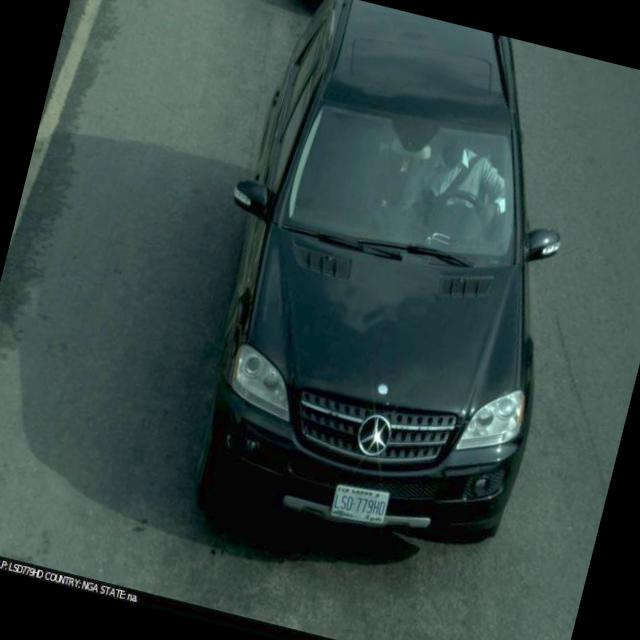person_with_seatbelt: (401, 116, 518, 258)
